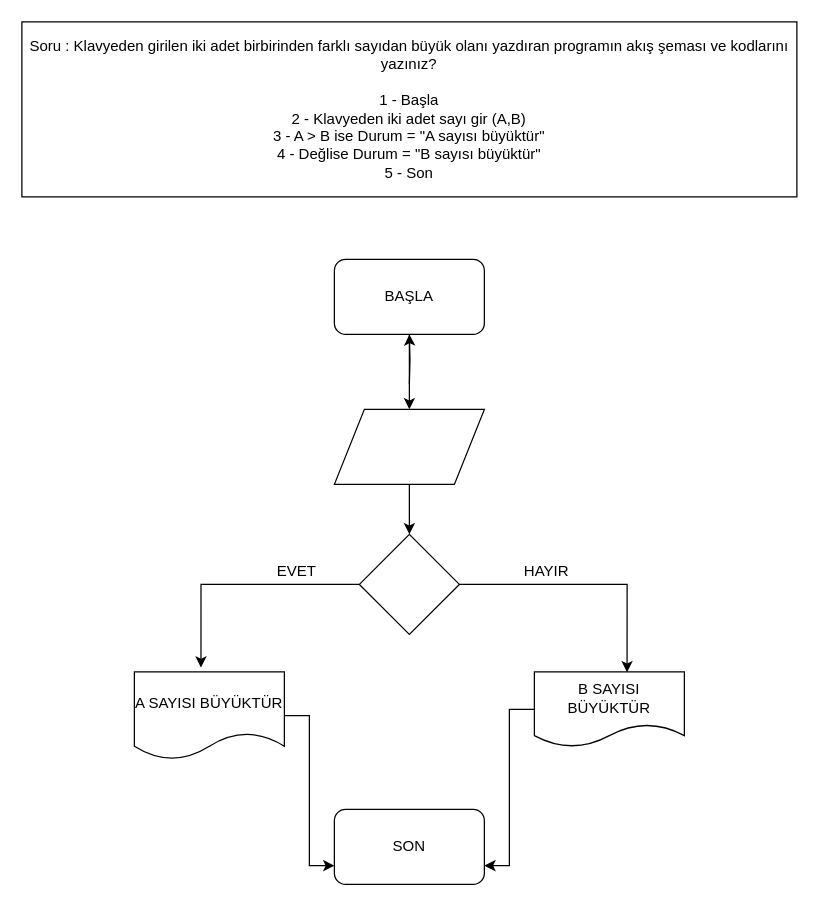
This 819x906 diagram has some shape labels left out. Each missing label, with the centre of its shape:
"A > B" belongs at [408,583].
"A, B" belongs at [408,446].
